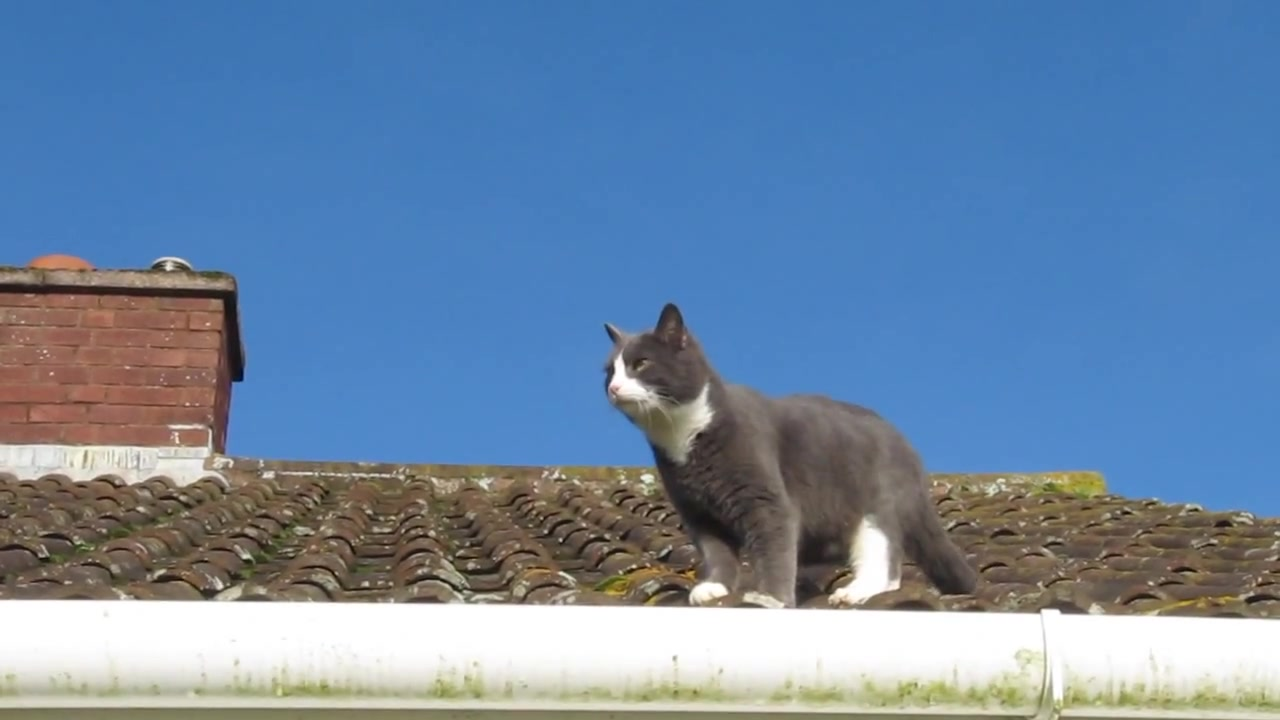cat: (595, 307, 984, 607)
